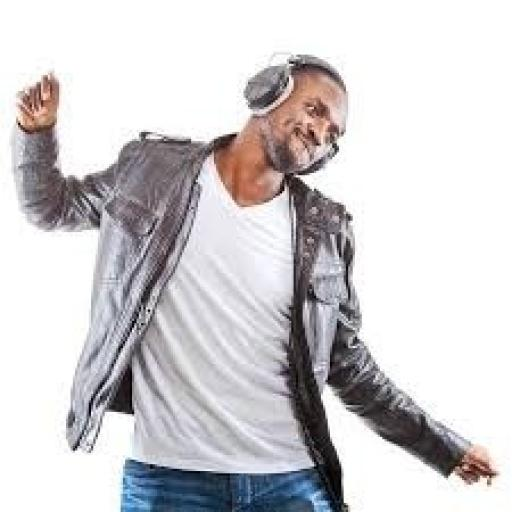listening_to_music: (7, 50, 503, 510)
